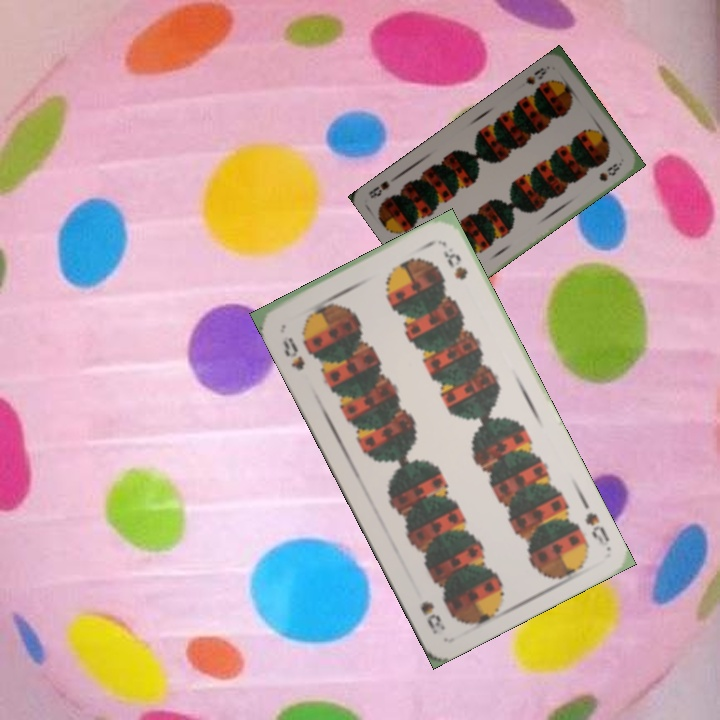S8: (580, 508, 612, 550), (278, 333, 308, 373), (521, 62, 553, 87)
